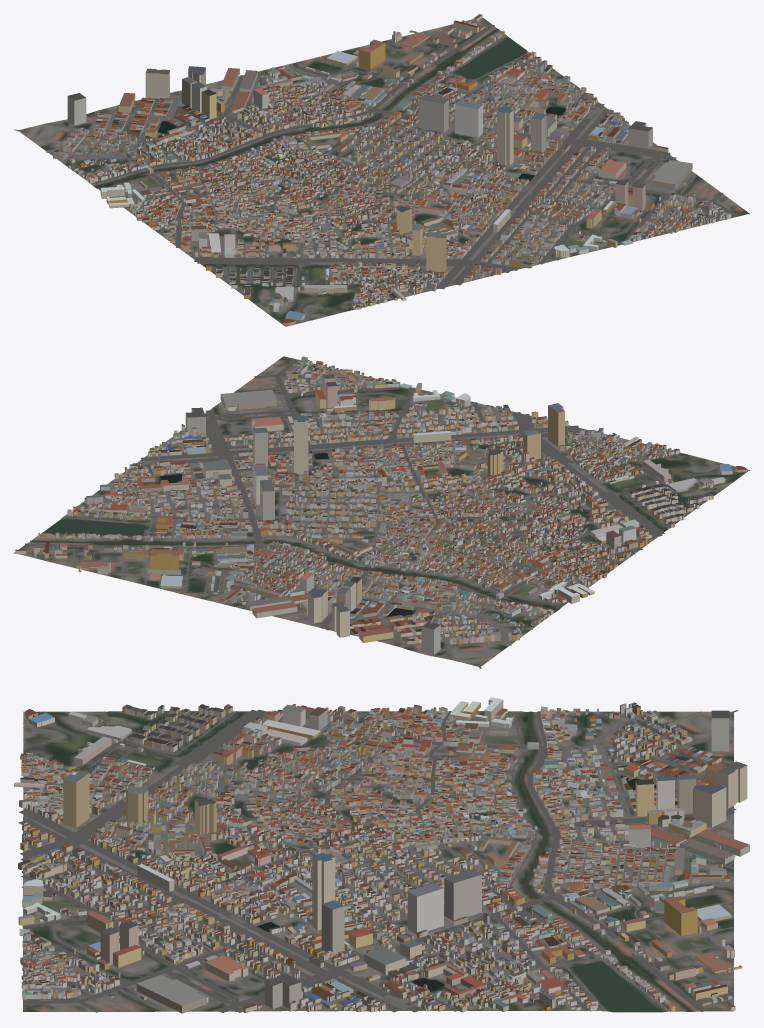
3 views of the same model, one above another, from view 1: azimuth 30°, elevation 25°; view 2: azimuth 150°, elevation 25°; view 3: azimuth 270°, elevation 25° (orthographic). The views are drawn at different scales.
Visible parts, largest first — view 1: buildings, ground, roads, water; view 2: buildings, ground, roads, water; view 3: buildings, ground, roads, water.
Part boxes in pixels (left/top/right/bottom): buildings: left=53, top=14, right=731, bottom=325; ground: left=17, top=17, right=749, bottom=326; roads: left=14, top=21, right=737, bottom=322; water: left=94, top=28, right=565, bottom=186; buildings: left=15, top=356, right=746, bottom=654; ground: left=14, top=356, right=749, bottom=666; roads: left=25, top=359, right=742, bottom=668; water: left=30, top=453, right=557, bottom=617; buildings: left=14, top=697, right=749, bottom=1013; ground: left=23, top=711, right=733, bottom=1012; roads: left=18, top=709, right=738, bottom=1012; water: left=257, top=711, right=692, bottom=1011.
Bounding box in the file's own units: 1441 × 158 × 1451.
